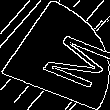M_NW: (11, 23, 99, 87)
